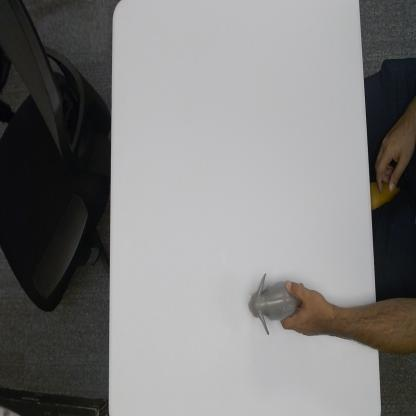Arm: (331, 300, 378, 350)
Elephant: (248, 272, 300, 336)
Hand: (283, 277, 331, 350)
